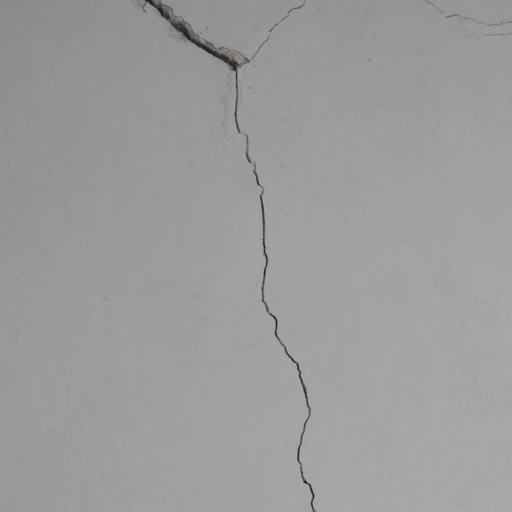major_crack: (139, 0, 344, 511)
